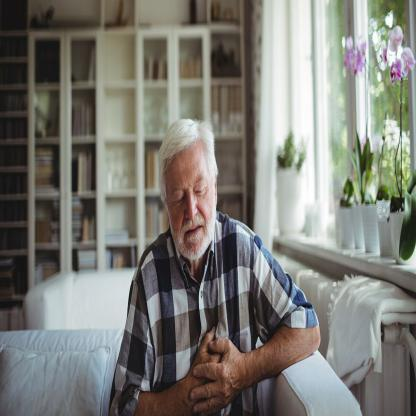pain: (172, 169, 212, 209)
